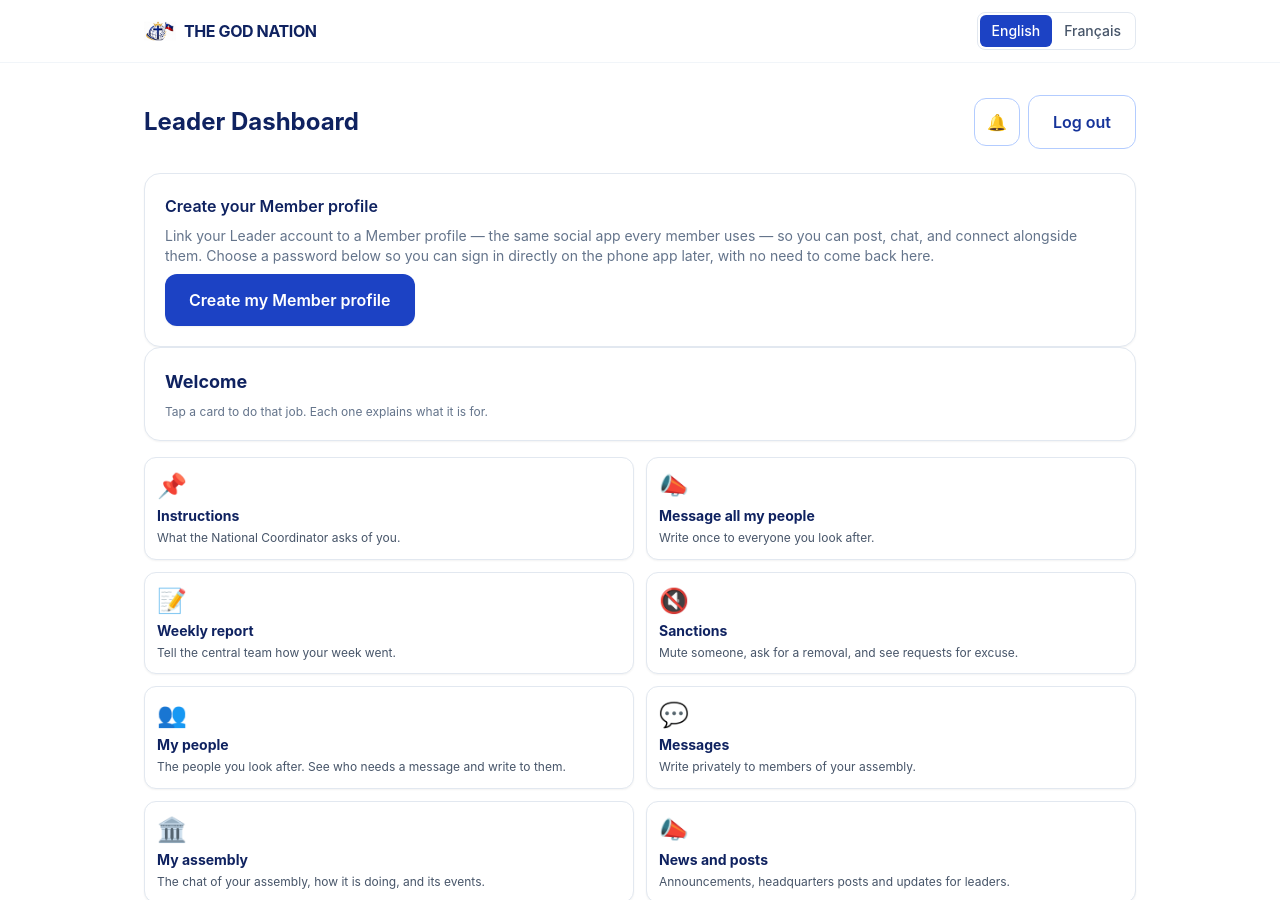
Test case: LeaderDashboardPage — Leader <-> Member identity bridge › shows an error message when the server rejects the request
The width and height of the screenshot is (1280, 900).
expect the heading "Create your Member profile" is shown: met, box [165,196,378,216]
Click the button "Create my Member profile". click: (290, 300)
box: [165,274,414,326]
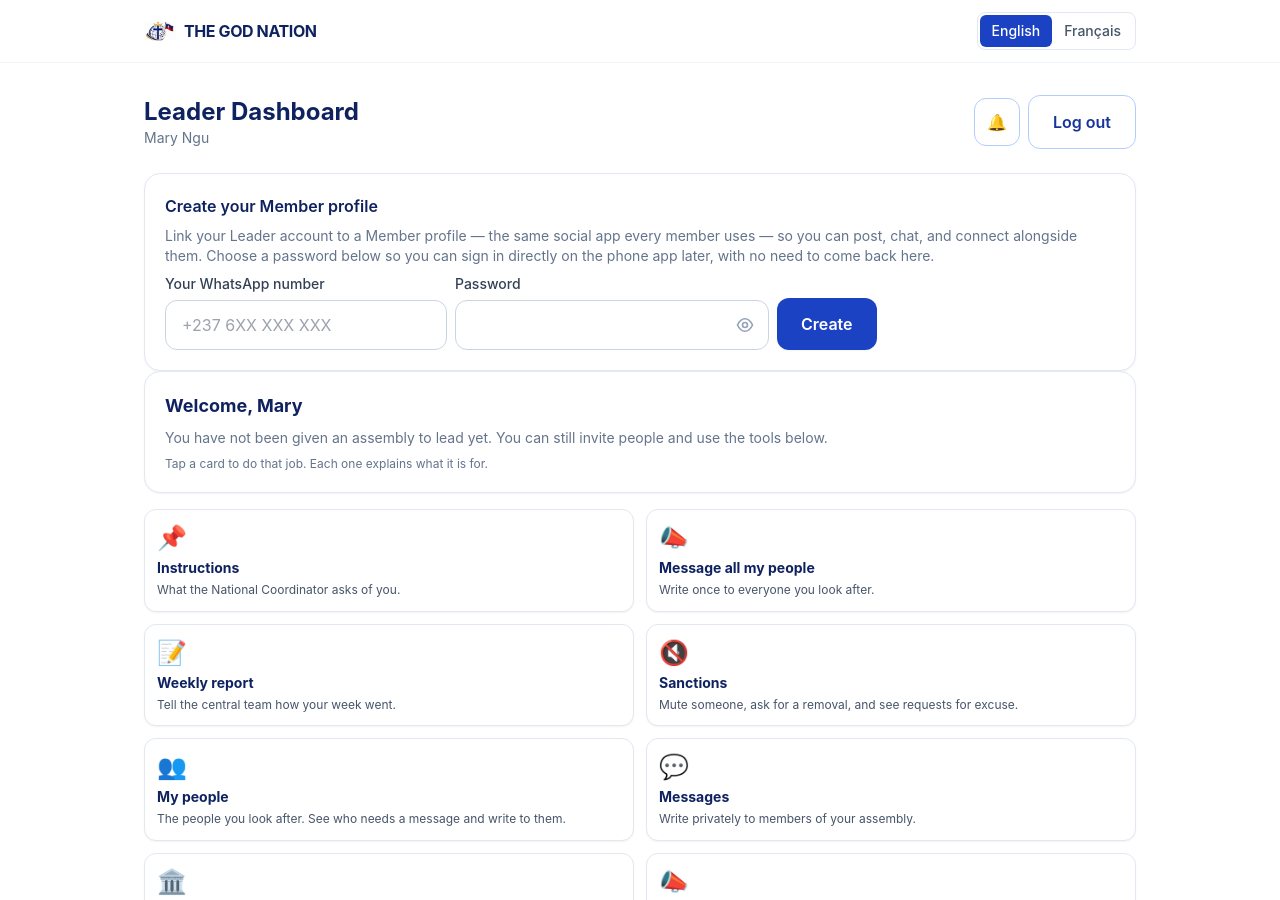
Type "+237670000002" into the field with placeholder "+237 6XX XXX XXX". click: (306, 325)
box: [165,300,447,350]
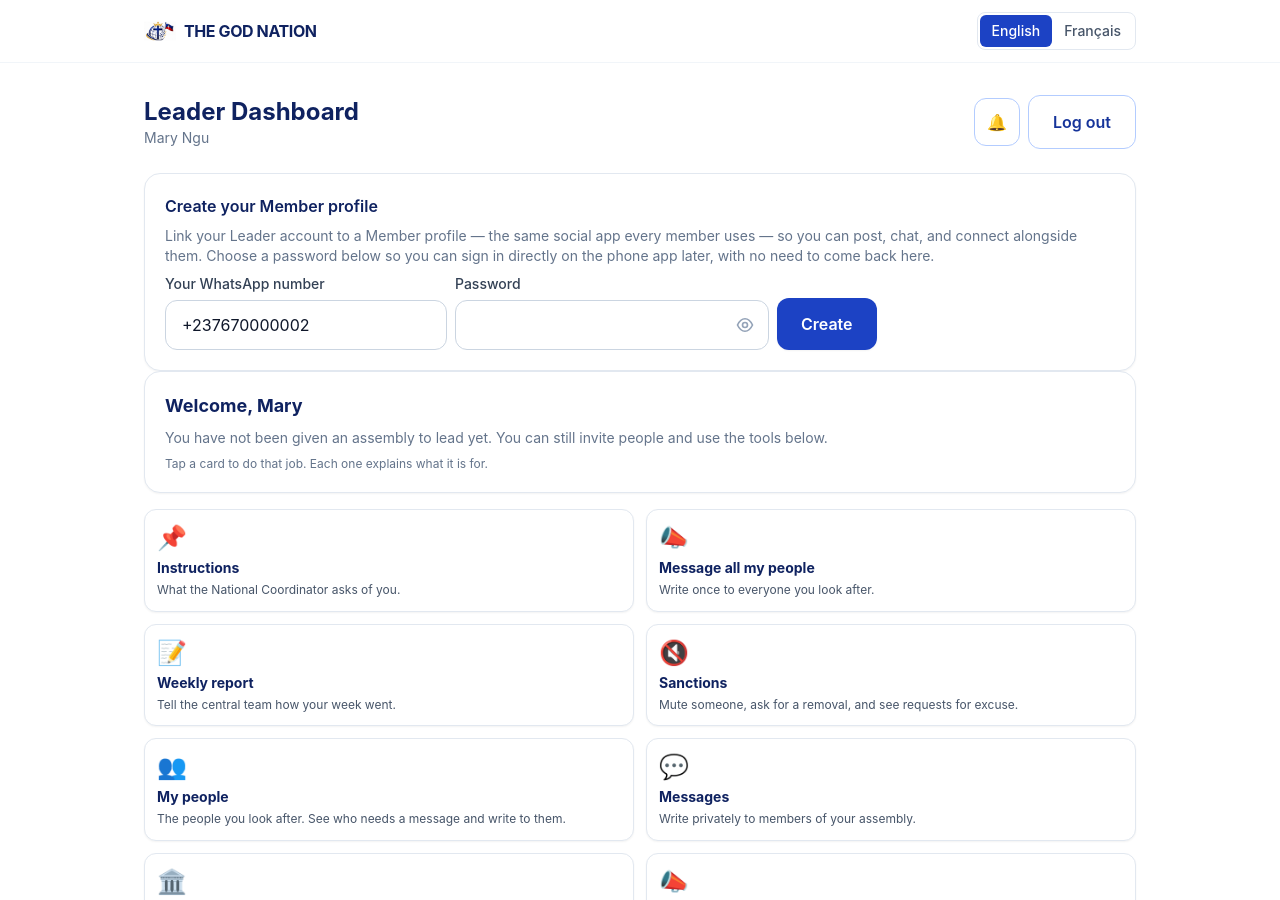
Type "Testpass123" into the password field labelled "Password". click: (612, 325)
box: [455,300,769,350]
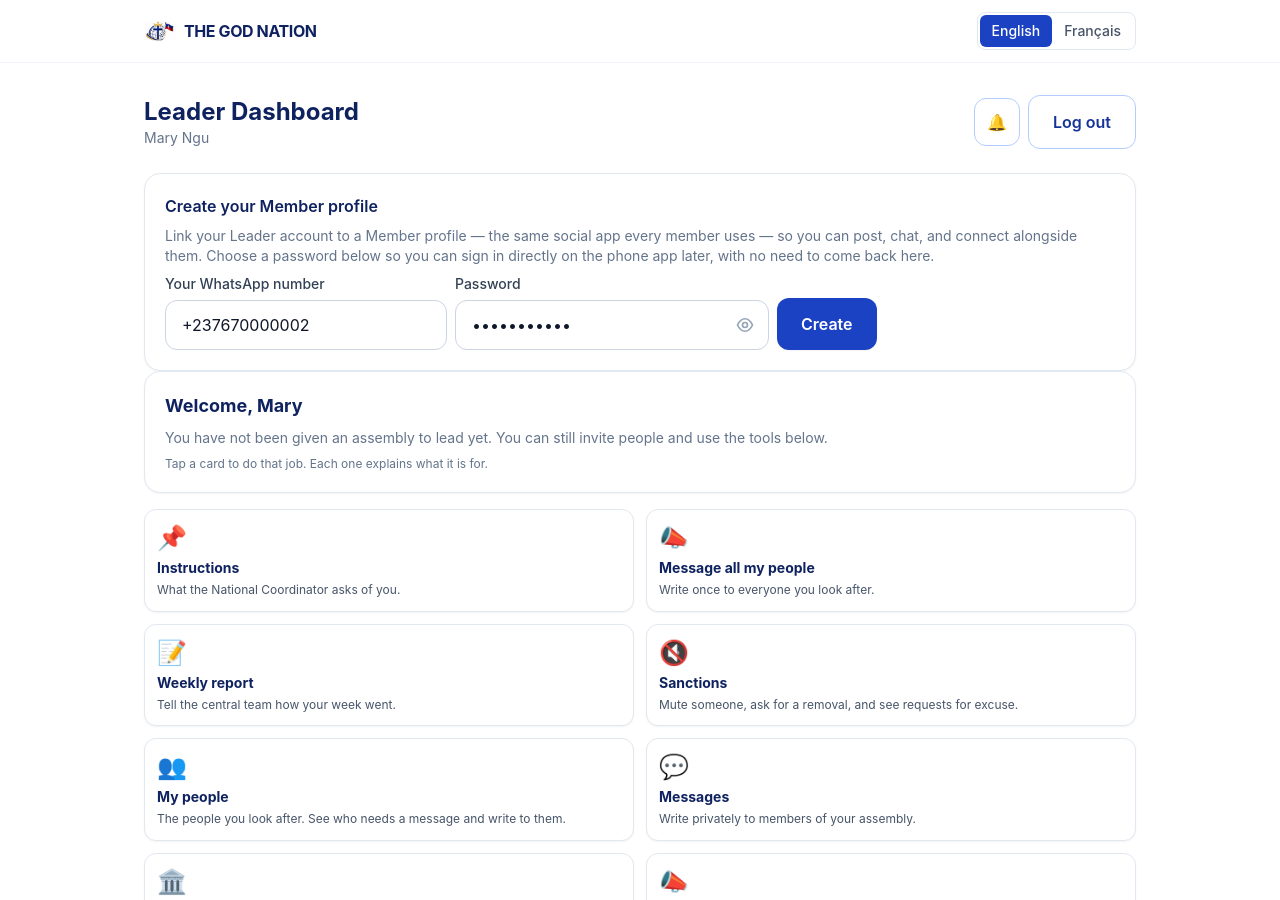
Click the button "Create". click: (827, 324)
box: [777,298,876,350]
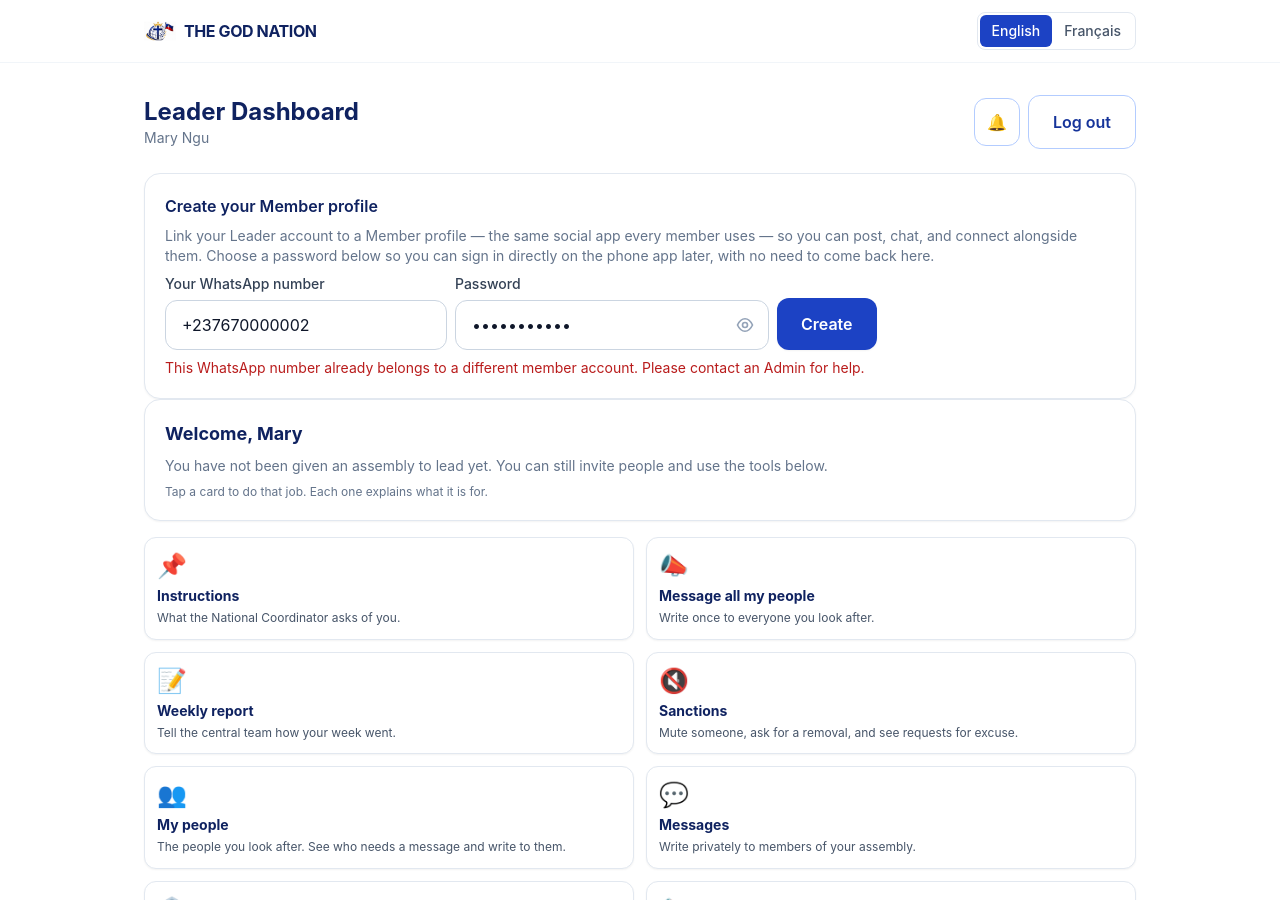
expect the text "This WhatsApp number already belongs to a different member account. Please contact an Admin for help." is shown: met, box [165,359,865,376]
